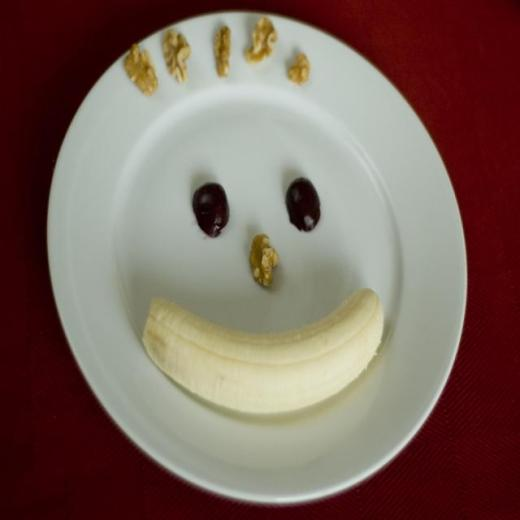Banana: (140, 296, 382, 418)
